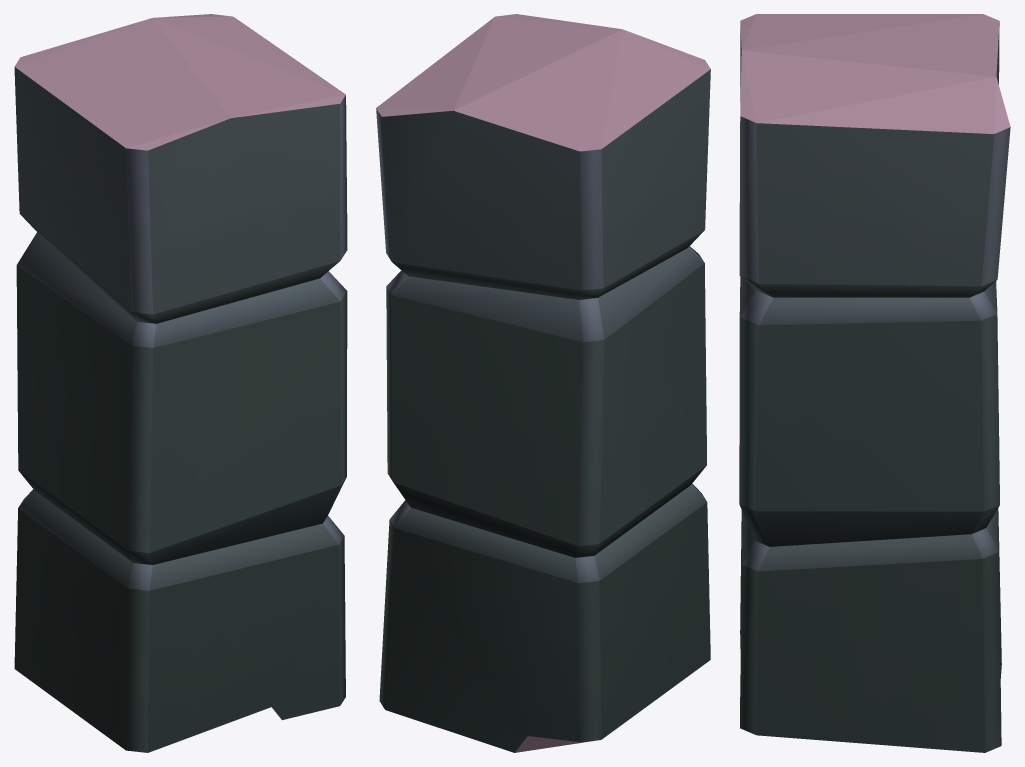
File: statue.fbx
3 views of the same model, side by side, from view 1: azimuth 30°, elevation 25°; view 2: azimuth 150°, elevation 25°; view 3: azimuth 270°, elevation 25° (orthographic). The views are drawn at different scales.
Visible parts, largest first — view 1: pillar_2; view 2: pillar_2; view 3: pillar_2.
Boxes of the visible parts, x1,y1,x2,y2 form: pillar_2: (14, 14, 347, 752); pillar_2: (376, 14, 710, 752); pillar_2: (739, 14, 1010, 752).
Size of the model in its own units: 93.61 by 95.71 by 254.
